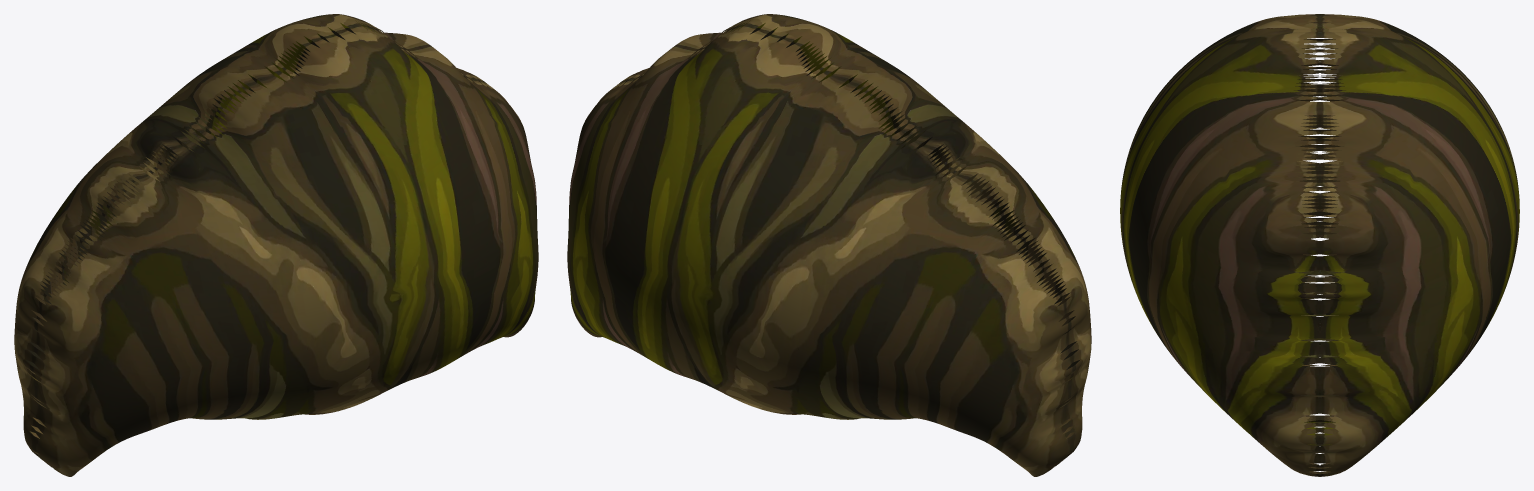
Rendered from cave_wall.glb.
3 renders of one model, left to right at view 1: azimuth 30°, elevation 25°; view 2: azimuth 150°, elevation 25°; view 3: azimuth 270°, elevation 25°, orthographic. The views are drawn at different scales.
Parts seen in each view (by area): view 1: cave_wall; view 2: cave_wall; view 3: cave_wall.
Part boxes in pixels (bbox=[...]): cave_wall: bbox=[14, 14, 538, 476]; cave_wall: bbox=[567, 14, 1091, 476]; cave_wall: bbox=[1120, 14, 1519, 476].
Size of the model in its own units: 0.9889 by 0.7125 by 0.6531.
1 material, 1 textured.
